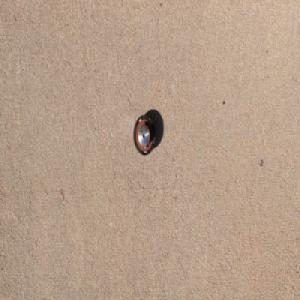FuelCap: (133, 112, 157, 156)
